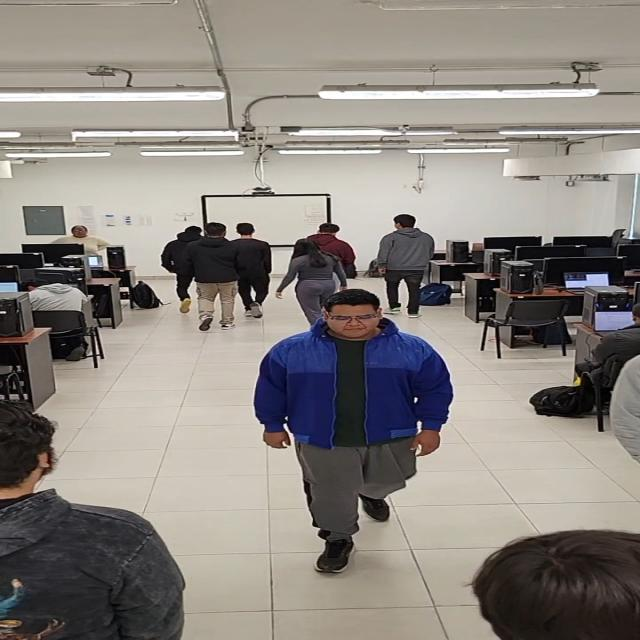Persona: (262, 292, 422, 560), (384, 210, 436, 312), (191, 224, 232, 328), (288, 237, 338, 307), (236, 216, 269, 318), (49, 220, 125, 262), (306, 224, 352, 256)
